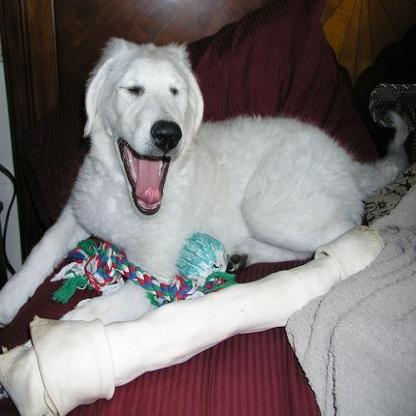kuvasz: (0, 34, 364, 330)
